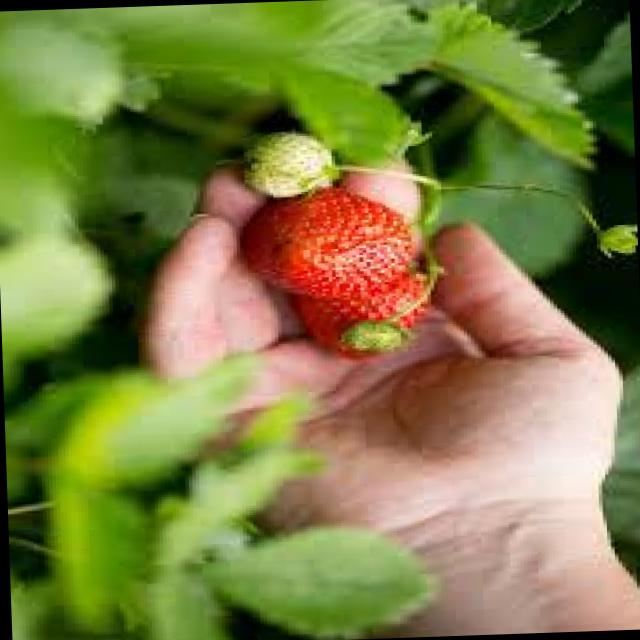strawberry: (230, 178, 434, 306)
